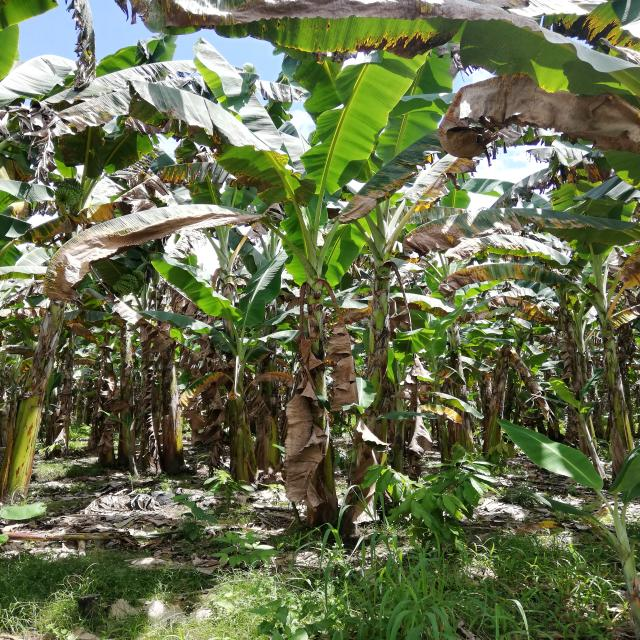Banana-plant: (356, 215, 398, 542), (1, 311, 64, 514), (588, 264, 640, 494), (222, 344, 254, 500)
